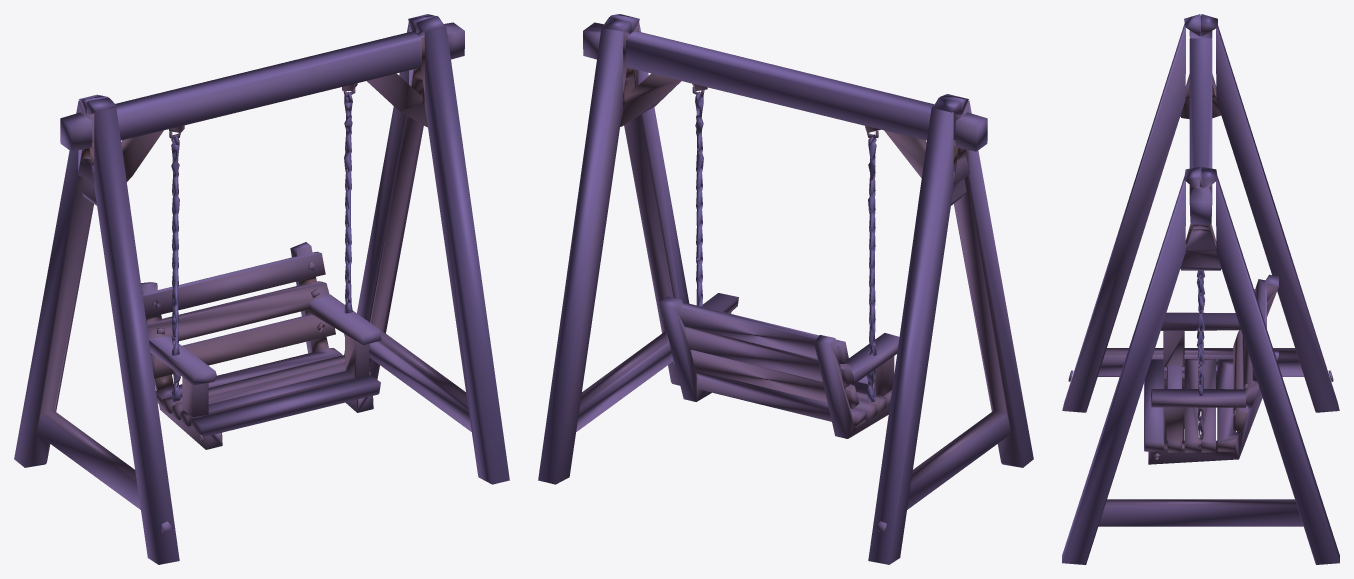
File: model.progressive.glb
3 views of the same model, side by side, from view 1: azimuth 30°, elevation 25°; view 2: azimuth 150°, elevation 25°; view 3: azimuth 270°, elevation 25° (orthographic). The views are drawn at different scales.
Parts seen in each view (by area): view 1: material; view 2: material; view 3: material.
Boxes of the visible parts, x1=… form: material: x1=14, y1=14, x2=509, y2=564; material: x1=538, y1=14, x2=1033, y2=564; material: x1=1062, y1=14, x2=1339, y2=564.
Bounding box in the file's own units: 1.89 × 1.89 × 1.22.
Materials: 1 (1 with a texture image).
